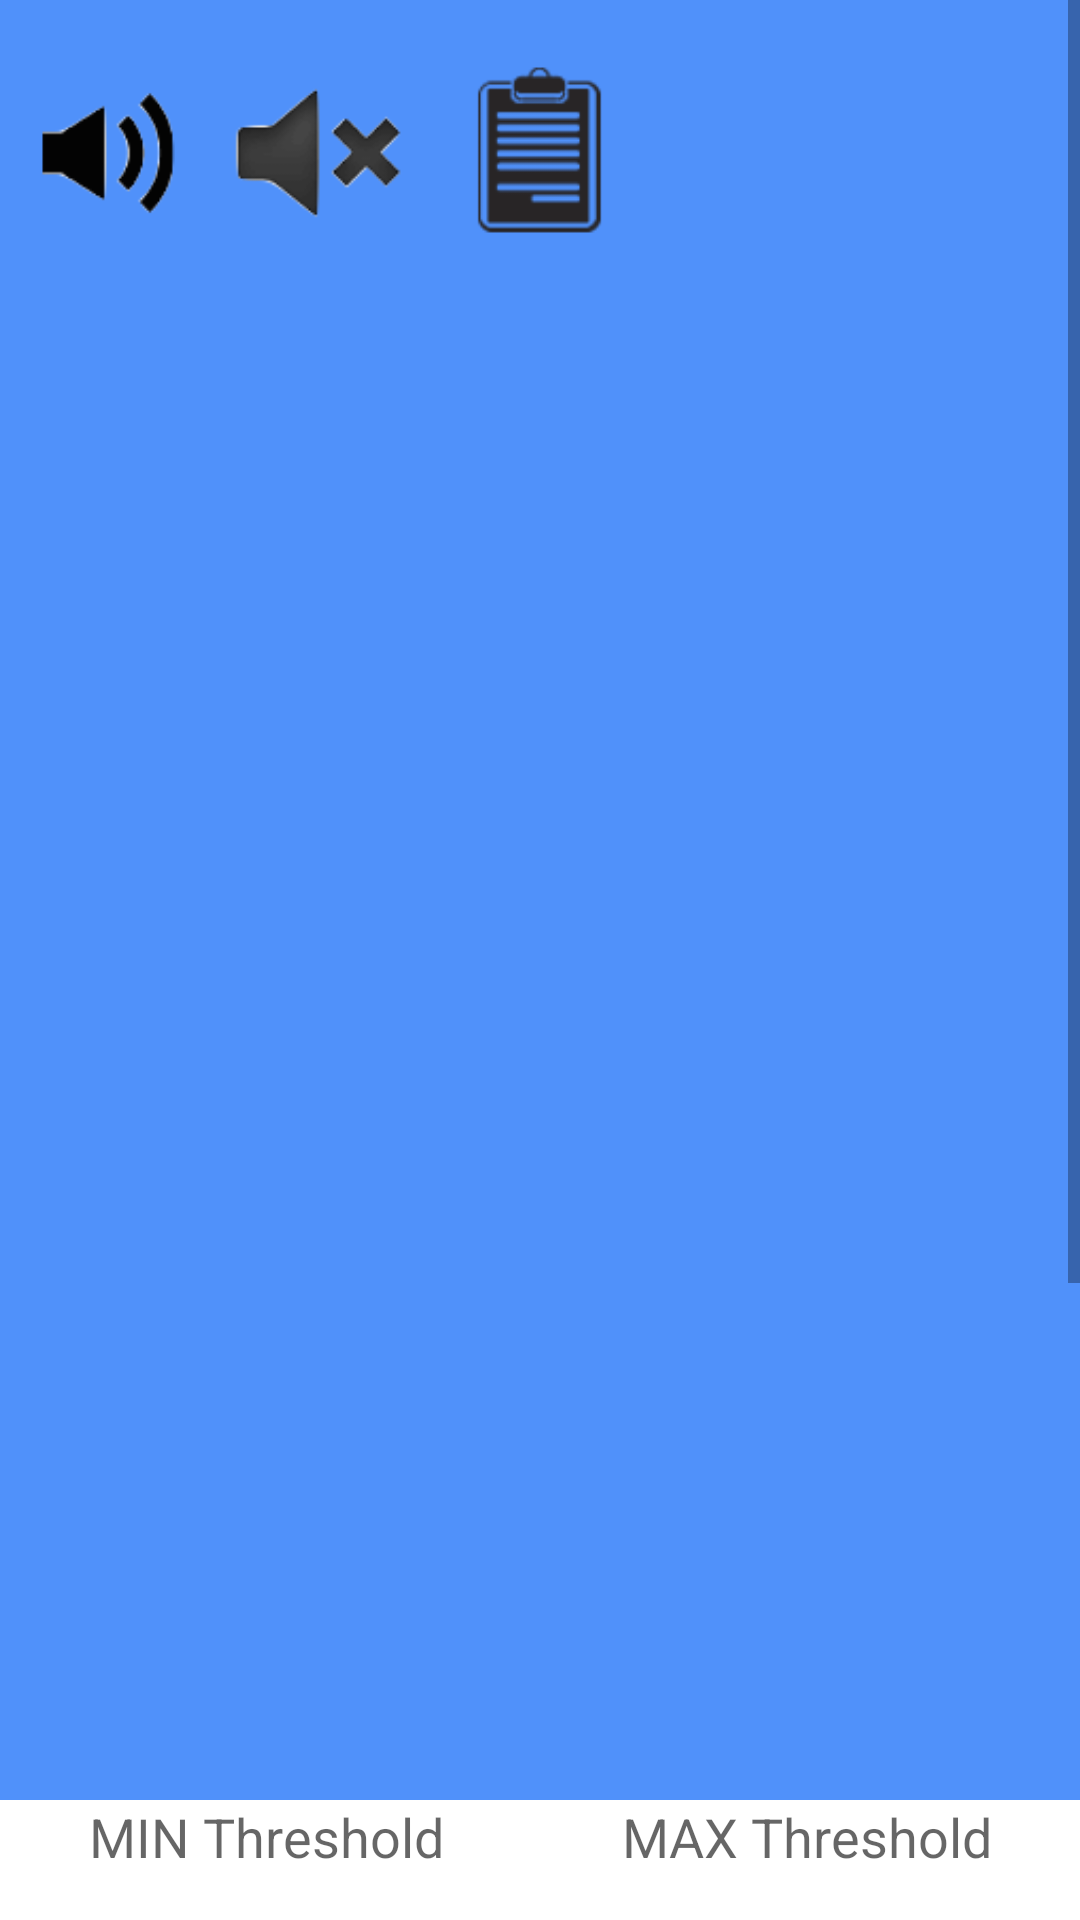

Locate icon controls on the screen. Image size 1080*1920, boxes as (x1, y1, x2, y2).
mute: (236, 89, 401, 217)
unmute: (42, 93, 175, 213)
